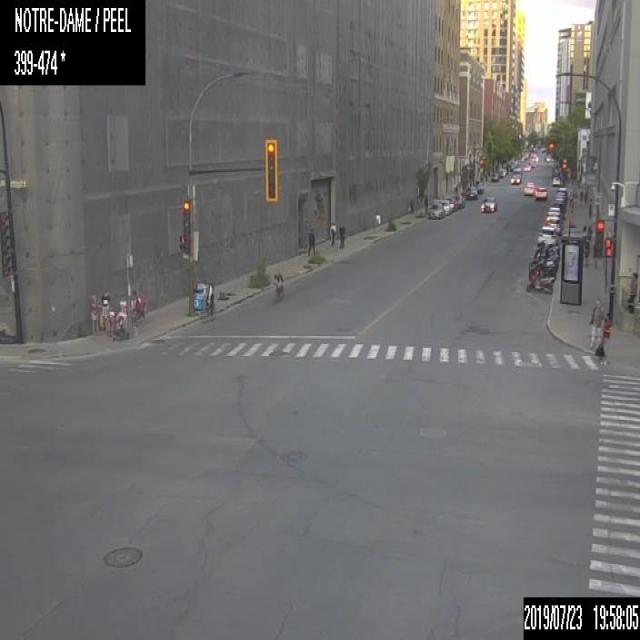cyclist: (201, 277, 216, 320), (274, 271, 282, 300)
pedestrian: (588, 297, 604, 364), (626, 271, 639, 313), (601, 311, 611, 364), (88, 292, 100, 334), (128, 288, 138, 335), (100, 289, 110, 333), (306, 231, 316, 256), (338, 221, 346, 248), (329, 219, 336, 245), (583, 238, 589, 266), (587, 225, 591, 251), (588, 196, 592, 216), (408, 200, 413, 215), (583, 189, 587, 206), (568, 189, 572, 202), (579, 188, 582, 204)
vehicle: (526, 272, 554, 294), (528, 257, 557, 278), (536, 225, 560, 244), (533, 248, 558, 266), (536, 242, 560, 258), (544, 215, 562, 232), (480, 195, 496, 214), (546, 205, 563, 218), (429, 201, 442, 218), (552, 190, 566, 205), (509, 168, 522, 184), (439, 196, 449, 215), (452, 192, 465, 206), (523, 180, 534, 196), (534, 185, 546, 199), (464, 185, 476, 199), (443, 195, 454, 209), (474, 179, 484, 193), (558, 185, 567, 198), (498, 167, 506, 178), (490, 171, 498, 182), (552, 174, 559, 185)
